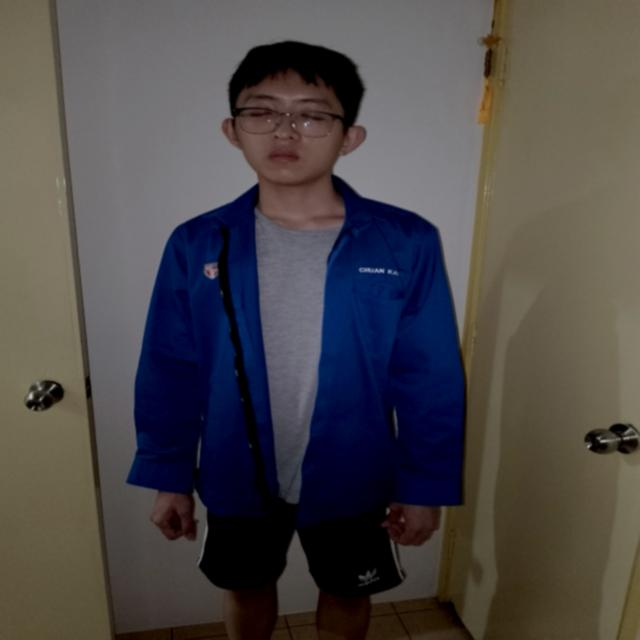person_with_labcoat: (127, 42, 464, 640)
